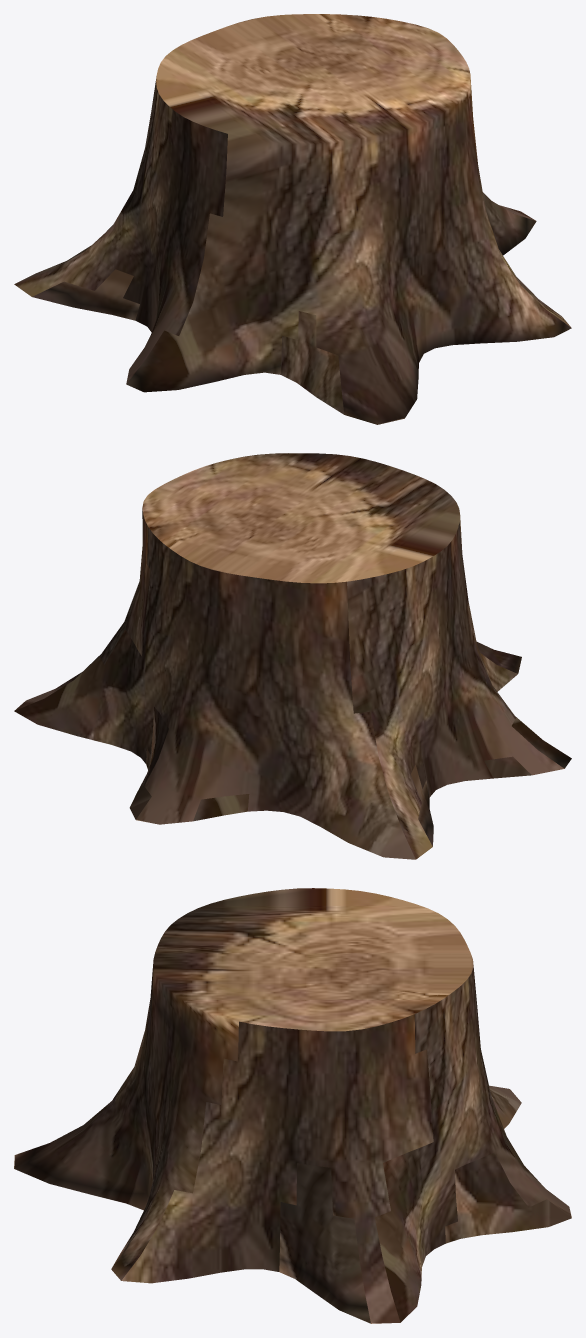
File: sawn-stump.glb
3 views of the same model, one above another, from view 1: azimuth 30°, elevation 25°; view 2: azimuth 150°, elevation 25°; view 3: azimuth 270°, elevation 25° (orthographic). The views are drawn at different scales.
Parts seen in each view (by area): view 1: sawn-stump; view 2: sawn-stump; view 3: sawn-stump.
Boxes of the visible parts, left/top/right/bottom form: sawn-stump: left=14, top=14, right=571, bottom=424; sawn-stump: left=14, top=453, right=571, bottom=859; sawn-stump: left=14, top=888, right=571, bottom=1323.
Size of the model in its own units: 0.9324 by 0.42 by 0.8998.
1 material, 1 textured.
